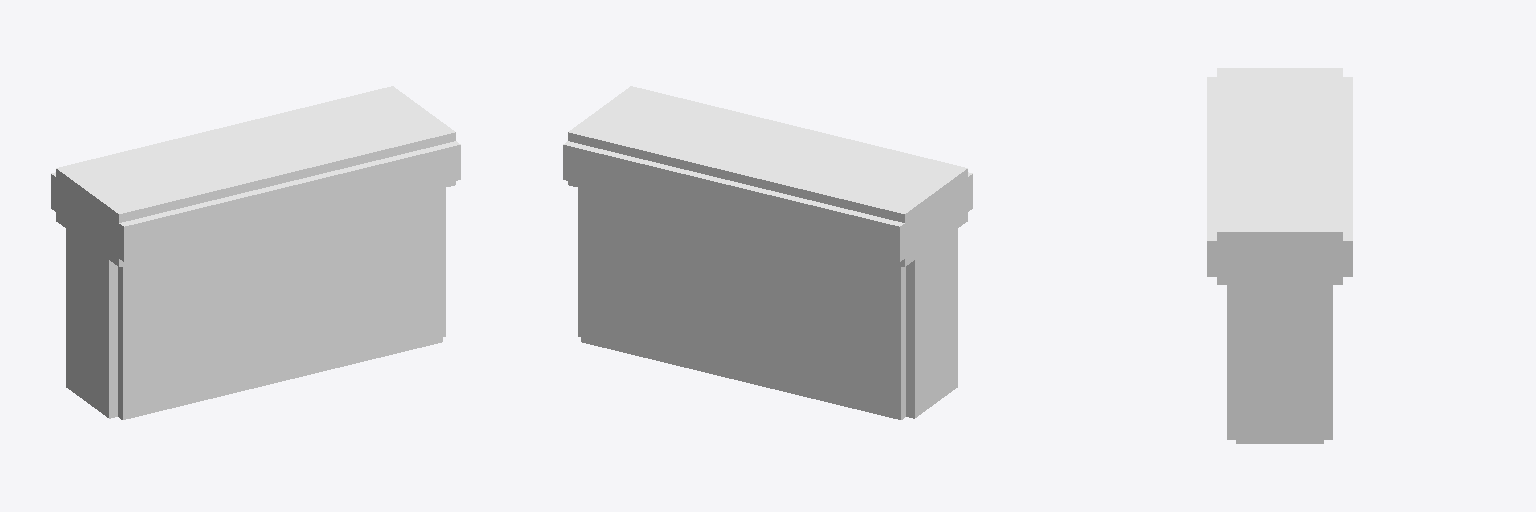
The model's file is border1-2-lod1.obj.
The picture shows the model from 3 angles: view 1: azimuth 30°, elevation 25°; view 2: azimuth 150°, elevation 25°; view 3: azimuth 270°, elevation 25°; orthographic projection.
Parts seen in each view (by area): view 1: lod1; view 2: lod1; view 3: lod1.
Part boxes in pixels (bbox=[...]): lod1: bbox=[51, 86, 460, 419]; lod1: bbox=[563, 86, 972, 419]; lod1: bbox=[1207, 68, 1352, 443].
Size of the model in its own units: 16 by 9.6 by 6.